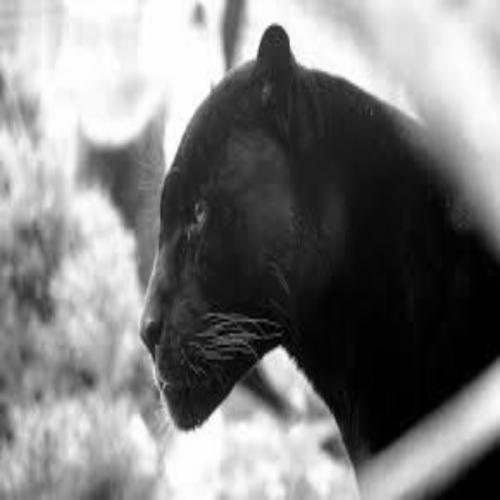panther-endangered: (140, 21, 500, 500)
